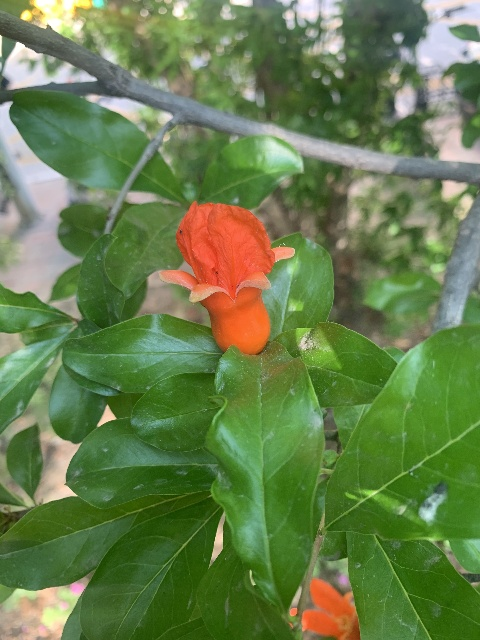flower: (156, 199, 293, 355), (289, 577, 360, 639)
